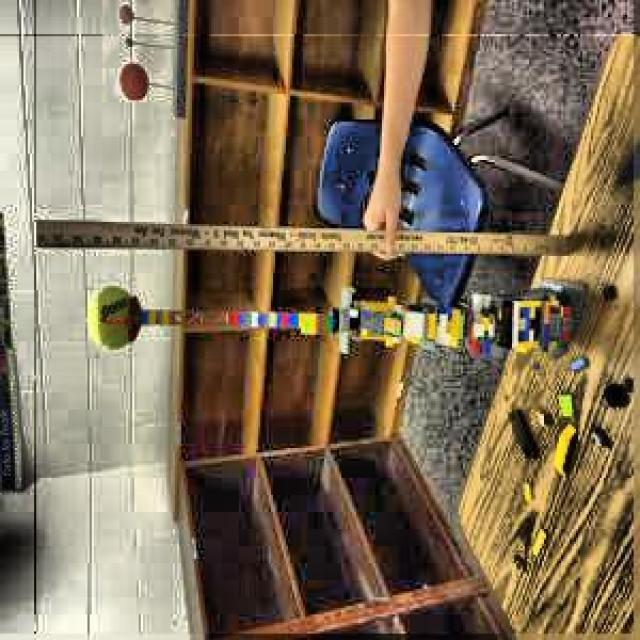tennis-ball: (90, 286, 132, 350)
